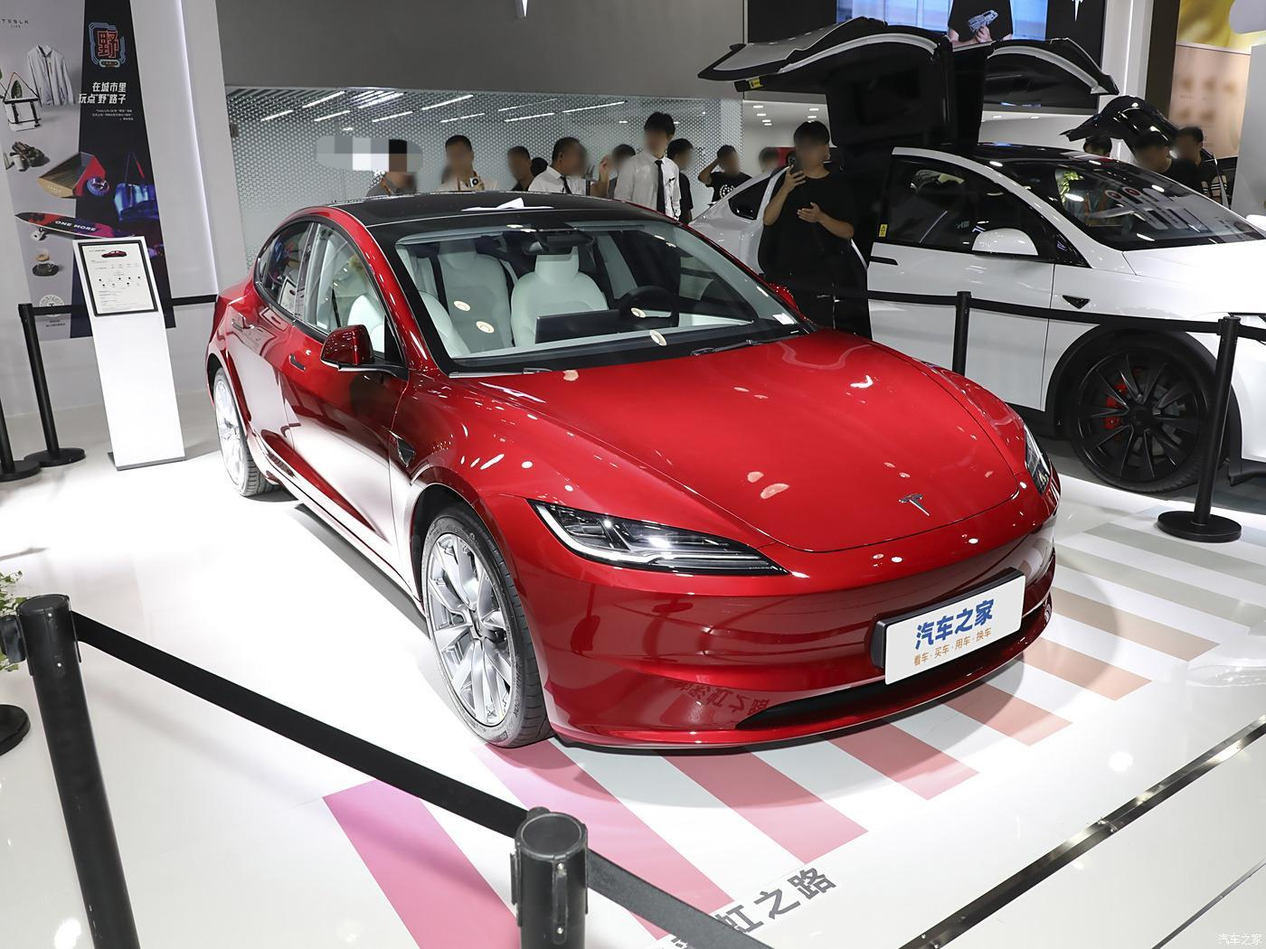Tesla: (898, 492, 931, 521)
